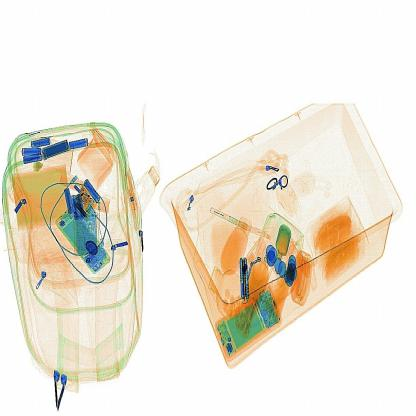scissors: (231, 252, 254, 304)
